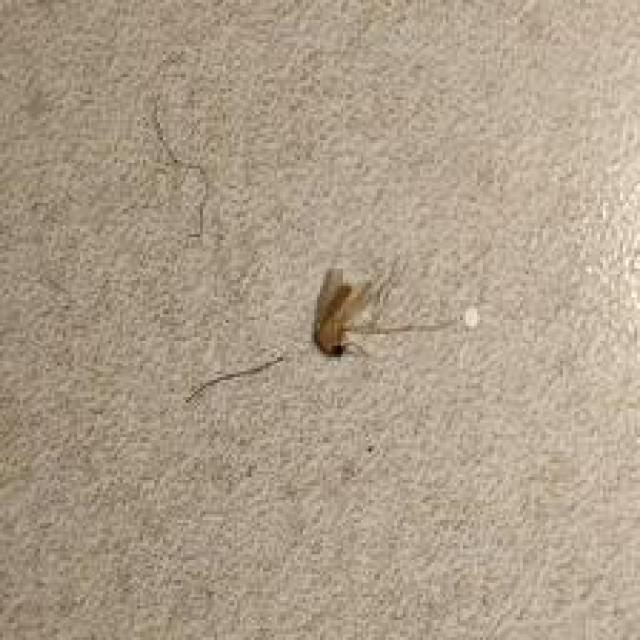Culex: (311, 263, 460, 360)
